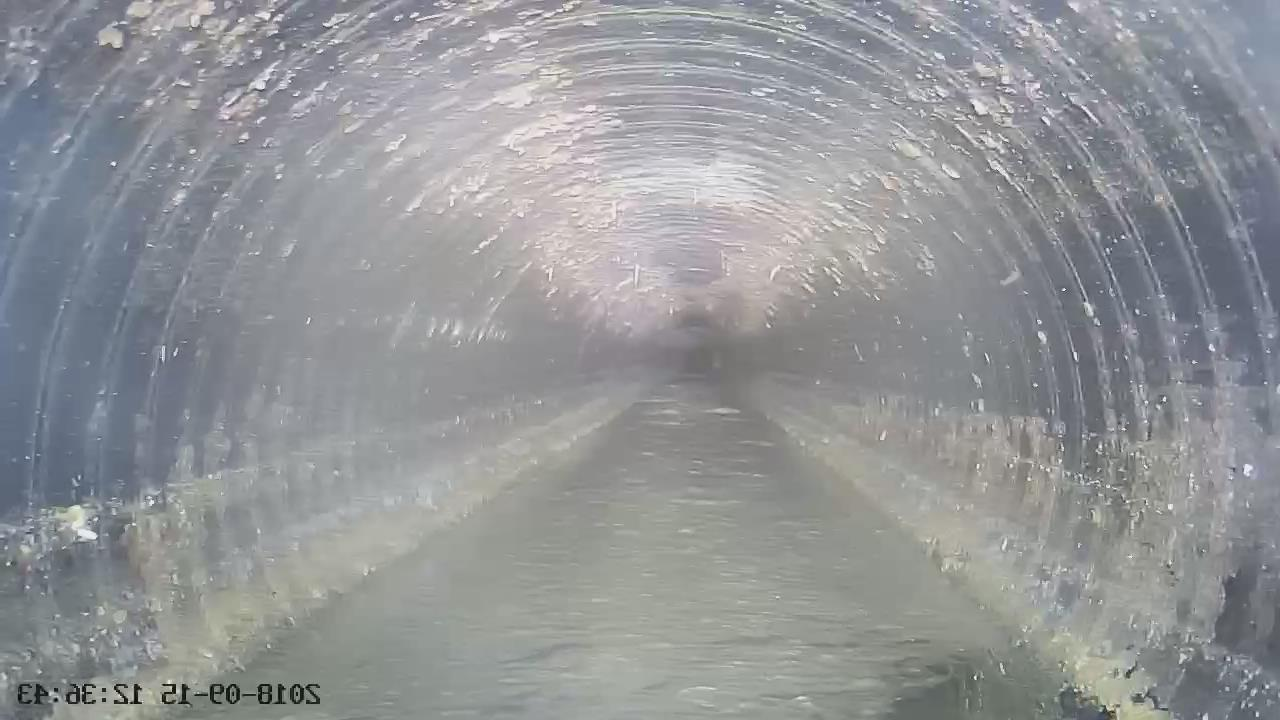FZ: (119, 375, 1107, 719)
JG: (1, 0, 1280, 719)
